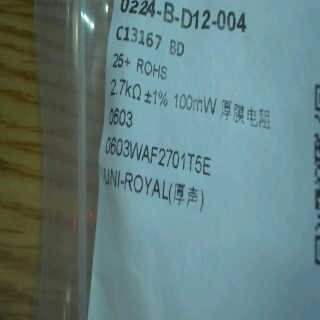2.7kR: (109, 75, 145, 102)
